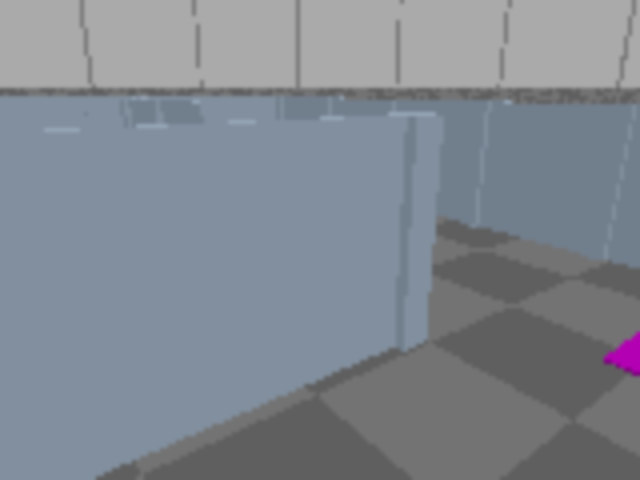goal_zone: (602, 309, 638, 477)
